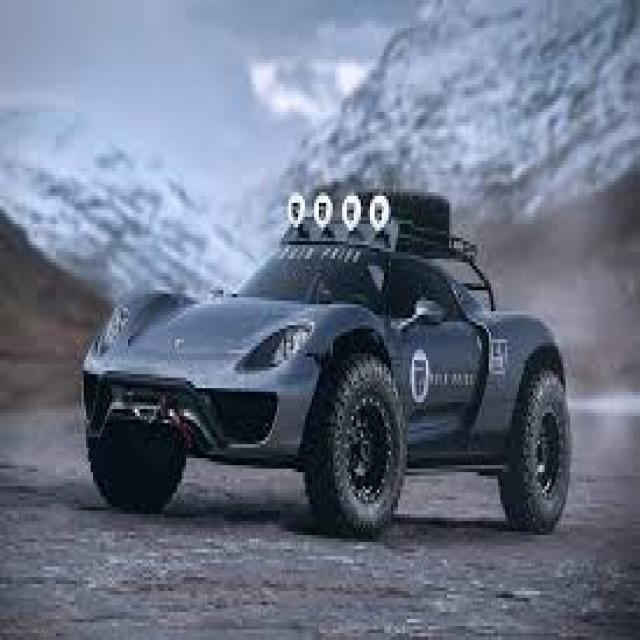Car: (79, 185, 573, 521)
